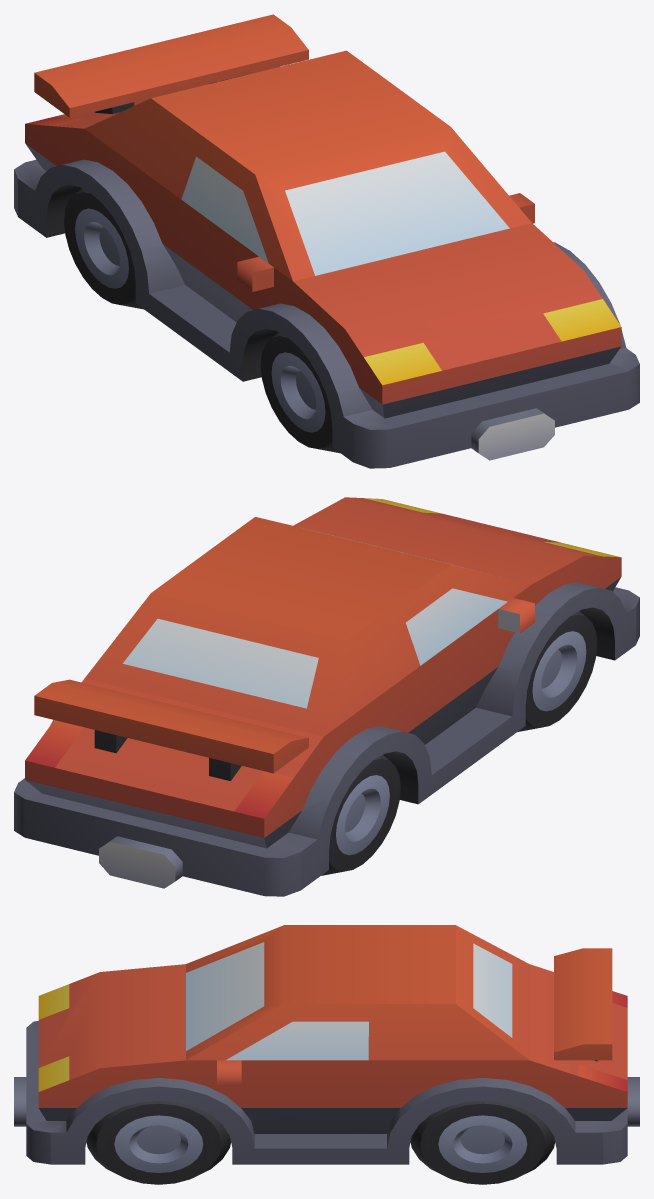
Rendered from sportscar.glb.
The picture shows the model from 3 angles, top to bottom: view 1: azimuth 30°, elevation 25°; view 2: azimuth 150°, elevation 25°; view 3: azimuth 270°, elevation 25°; orthographic projection. The views are drawn at different scales.
Parts seen in each view (by area): view 1: sportscar; view 2: sportscar; view 3: sportscar.
Part boxes in pixels (box(x1,y1,x2,y2)): sportscar: box(14, 14, 639, 468); sportscar: box(14, 497, 639, 896); sportscar: box(14, 925, 639, 1184).
Size of the model in its own units: 2.02 by 1.45 by 4.7.
